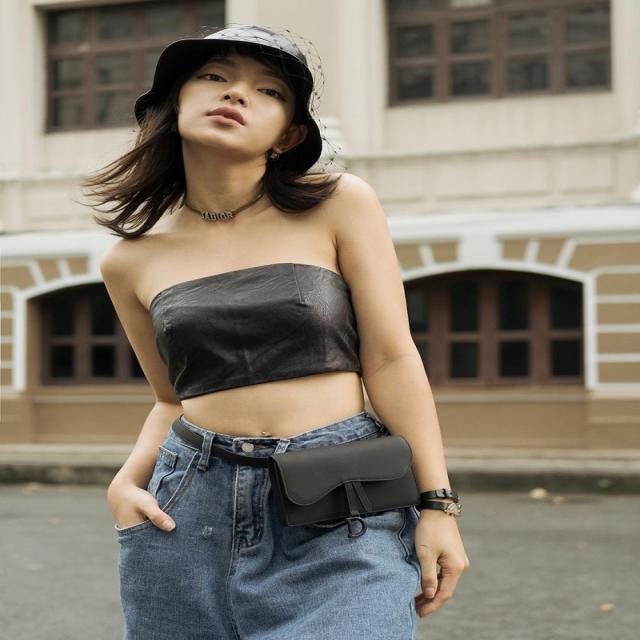clothes: (107, 261, 473, 638)
